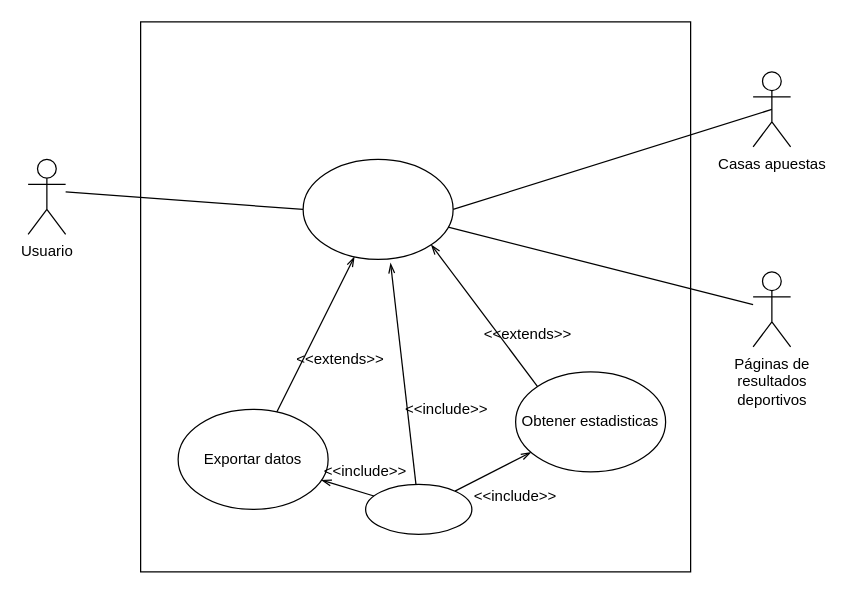
The diagram is 848 pixels wide and 594 high, and some of its shapes have lost their labels. The shapes that lost their labels are listed below. From the top down, each one's box as (x1, y1, x2, y2) in pixels, then its label:
(302, 158, 453, 259): Obtener datos
(364, 483, 472, 534): Login
